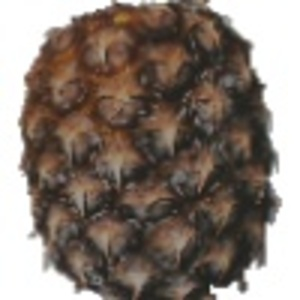abacaxi: (14, 3, 283, 296)
